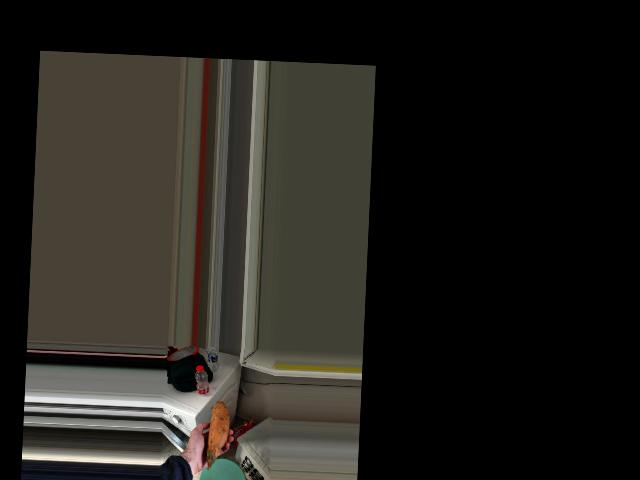sweet_potato: (209, 403, 233, 477)
